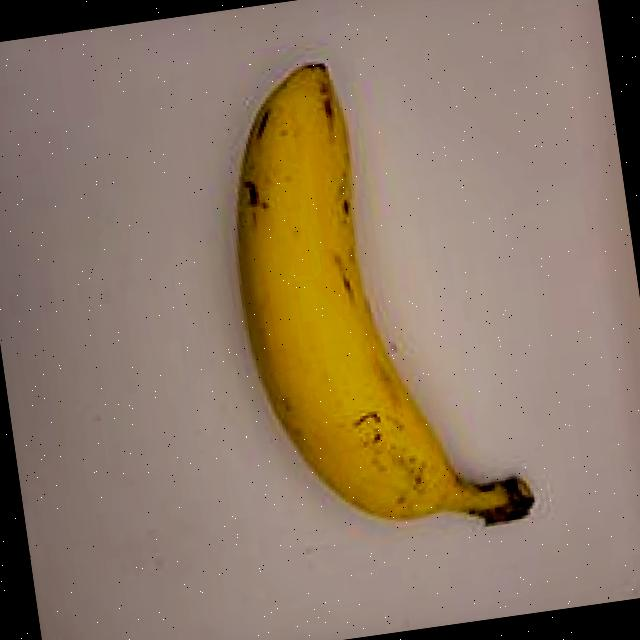Overripe: (156, 0, 584, 586)
